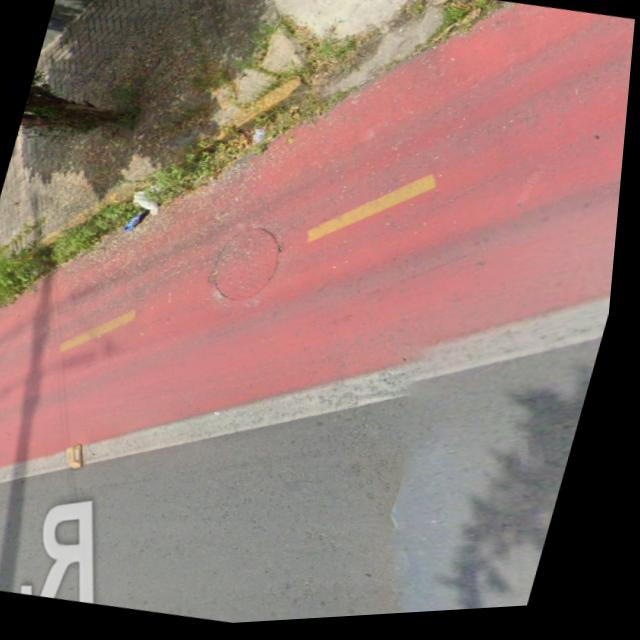Bueiro: (183, 210, 328, 326)
